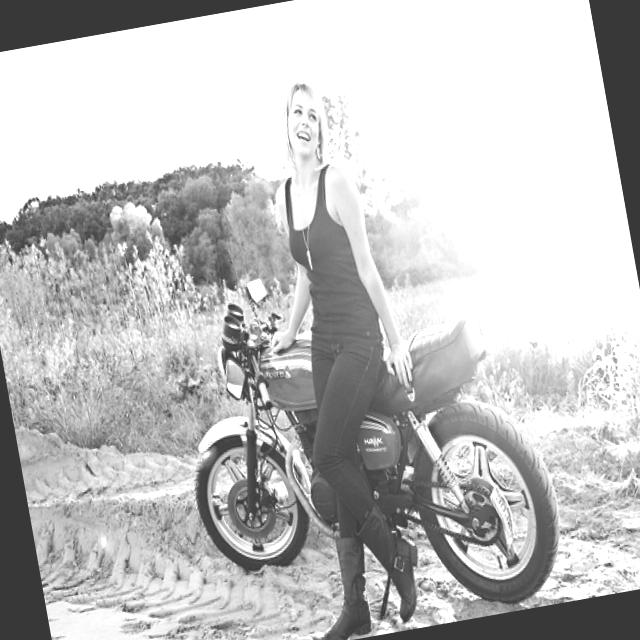Vehicle: (160, 227, 568, 640)
